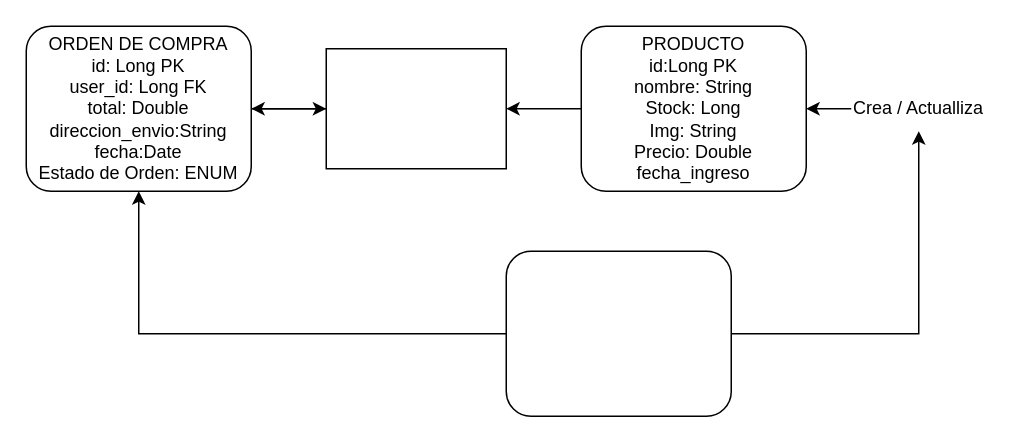
Image size: 1013x443. Some labels were removed from this diagram. Each missing label, with the centre of its shape:
Listado-Productos id_carrito: Long FK id_producto: Long FK: pixel 415 108
USUARIO id: Long PK username: String password: String IsAdmin: boolean: pixel 618 333
